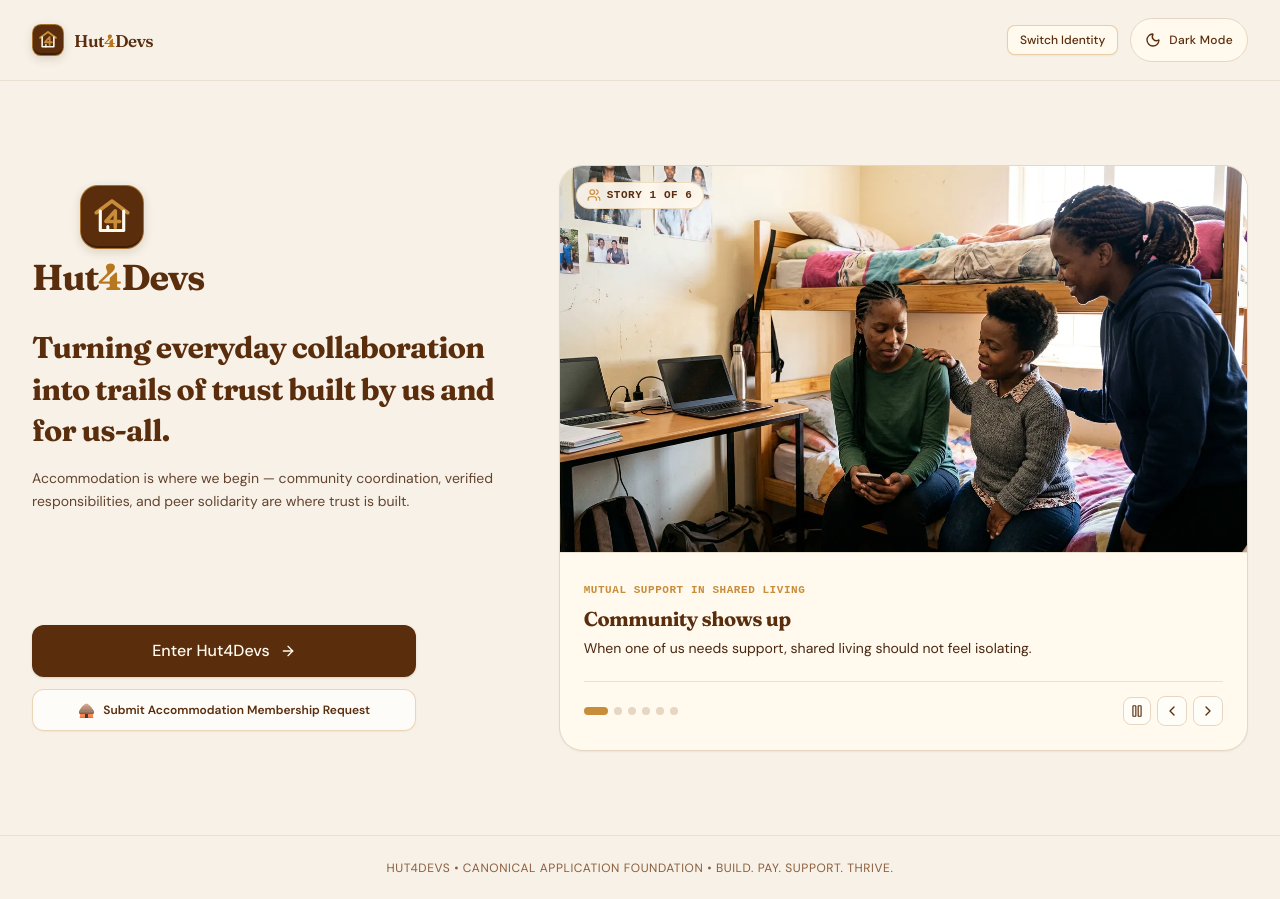
it: Accommodation Responsibility Domain & Component Tests › 4. opens detail view when "View Responsibility" is clicked
This screenshot has width=1280, height=899.
# Enter Hut4Devs from Landing
Click the button "Enter Hut4Devs".
click(224, 651)  # box left=32, top=625, right=416, bottom=677
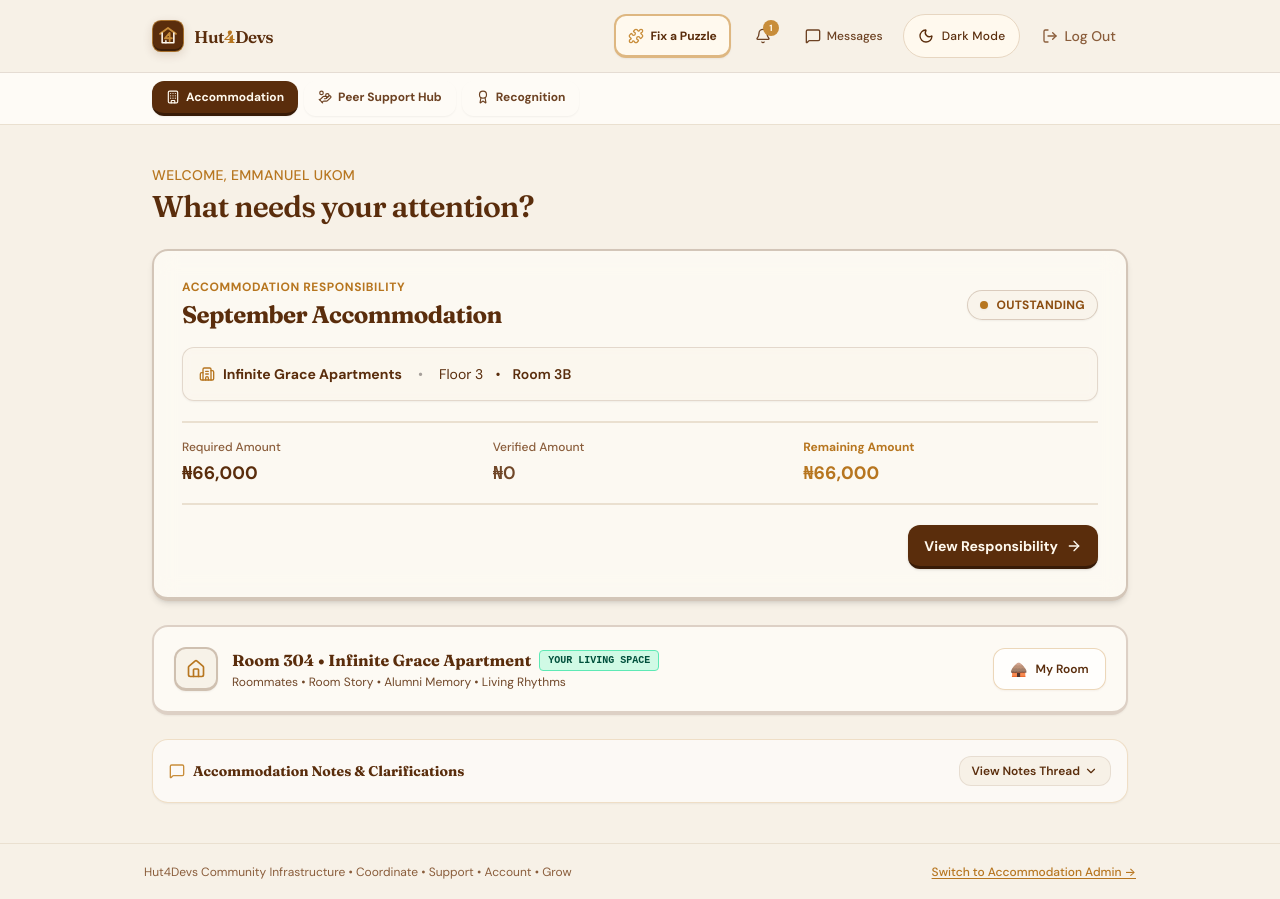
Now the button "View Responsibility" is shown
Click the button "View Responsibility".
click(1003, 547)  # box left=908, top=525, right=1098, bottom=569
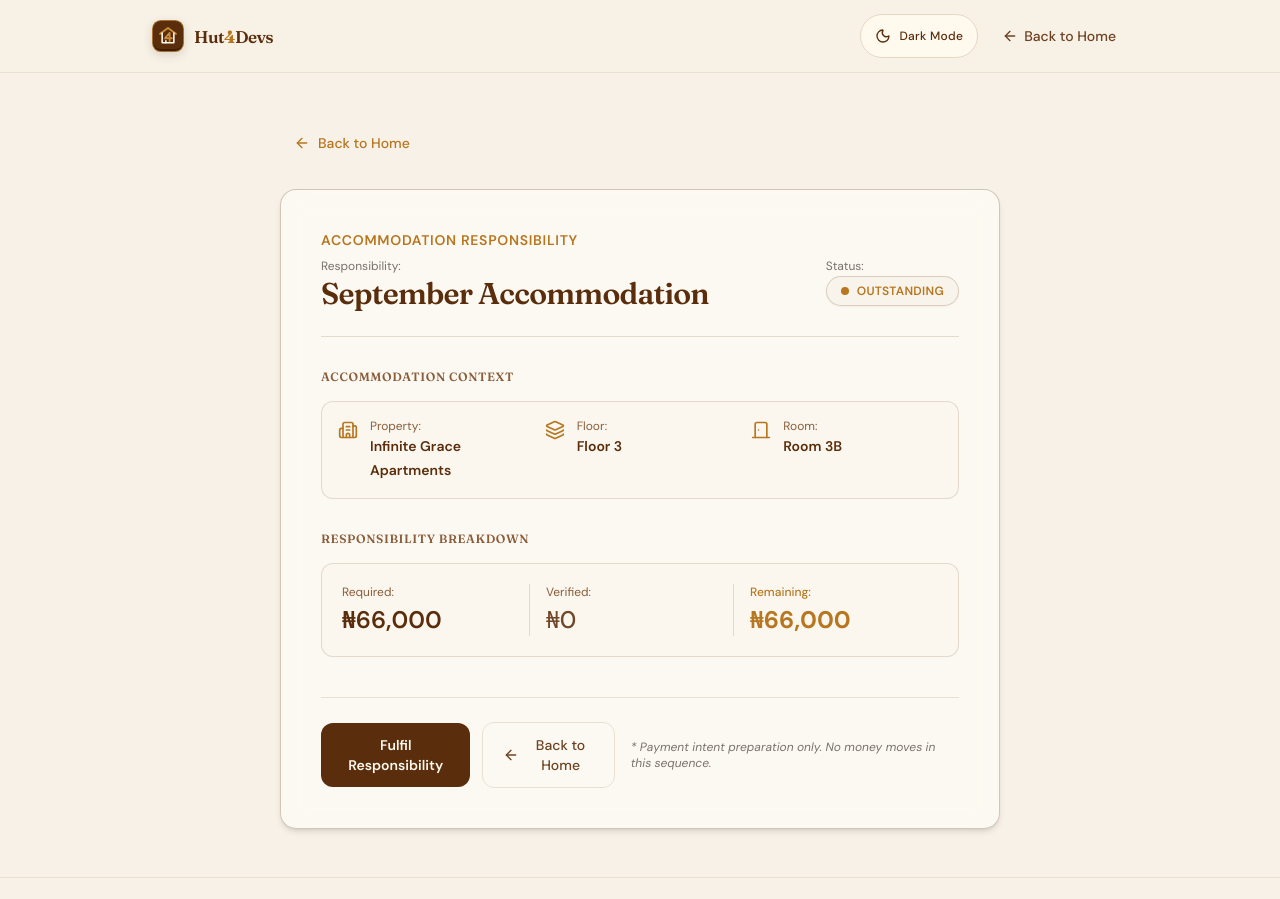
Now the text "Infinite Grace Apartments" is shown, box left=370, top=437, right=461, bottom=479
Now the heading "September Accommodation" is shown, box left=321, top=276, right=709, bottom=312
Now the heading "Accommodation Context" is shown, box left=321, top=369, right=514, bottom=384
